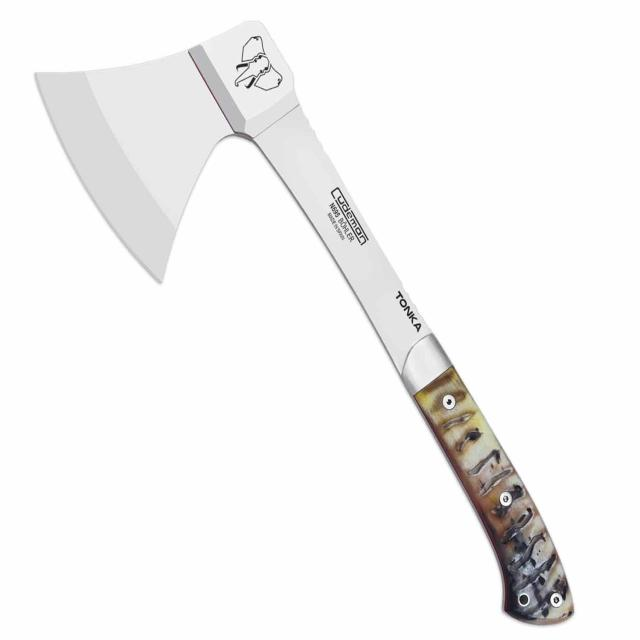Kapak: (43, 42, 576, 627)
